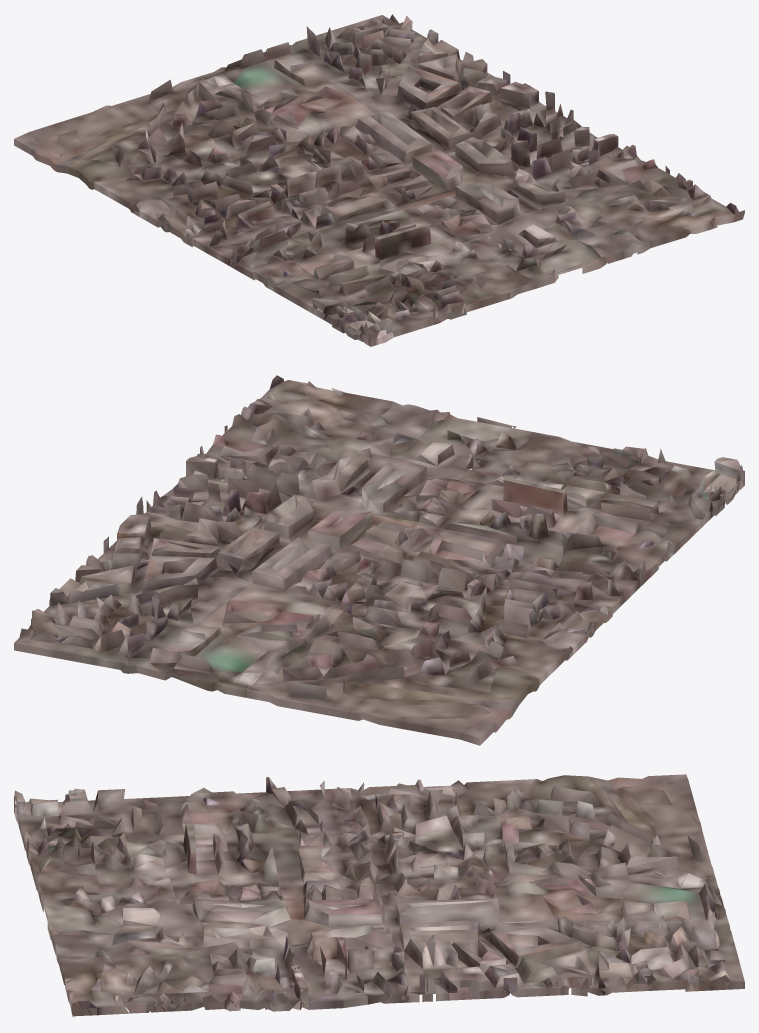
The picture shows the model from 3 angles, top to bottom: view 1: azimuth 30°, elevation 25°; view 2: azimuth 150°, elevation 25°; view 3: azimuth 270°, elevation 25°; orthographic projection. The views are drawn at different scales.
Parts seen in each view (by area): view 1: Mesh_0; view 2: Mesh_0; view 3: Mesh_0.
Boxes of the visible parts, x1,y1,x2,y2 form: Mesh_0: [14, 14, 744, 346]; Mesh_0: [14, 375, 744, 745]; Mesh_0: [14, 774, 744, 1017].
Bounding box in the file's own units: 1079 × 84.21 × 1318.
Materials: 2 (2 with a texture image).
